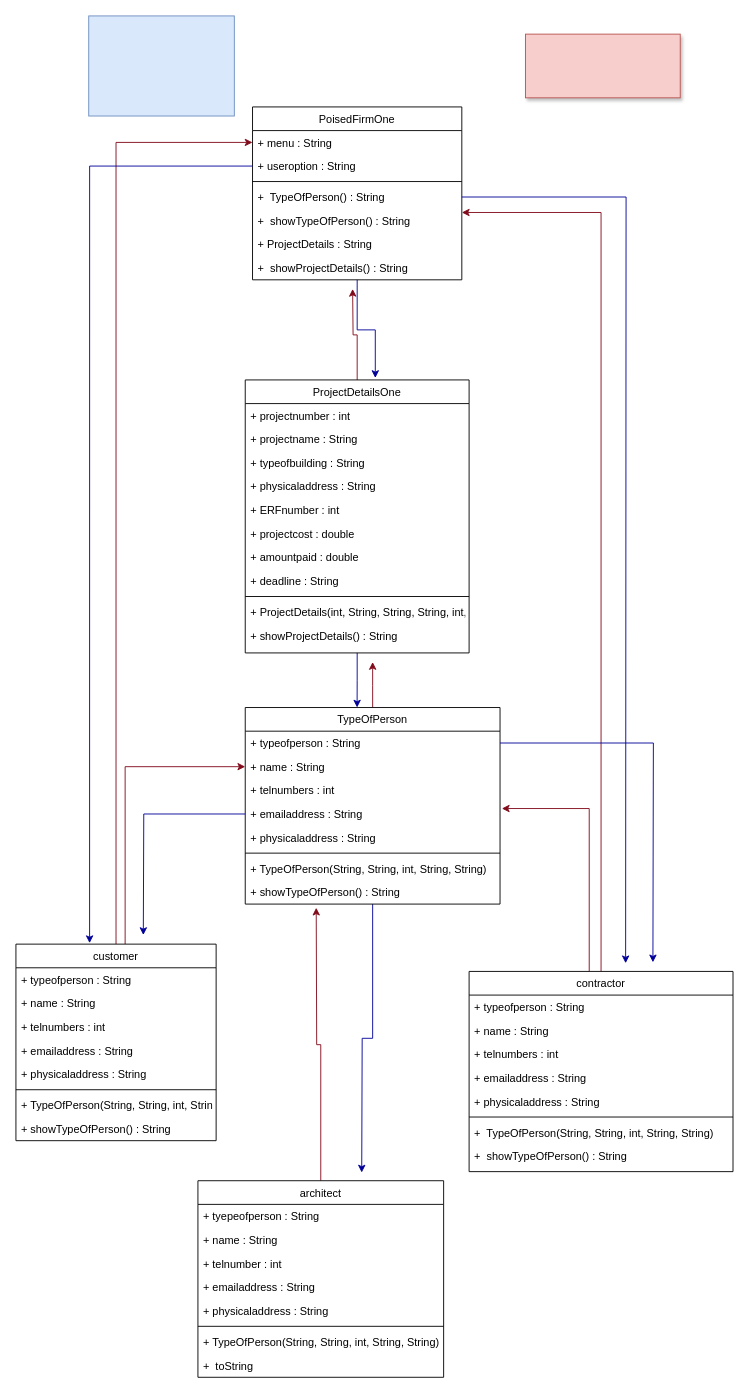
The diagram is 749 pixels wide and 1396 high, and some of its shapes have lost their labels. Each missing label, with the centre of its shape:
"The ProjectDetails and TypeOfPerson Classes are called in PoisedFirm(main class)" belongs at [161,65].
"This project start in PoisedFirm(main)" belongs at [603,67].
